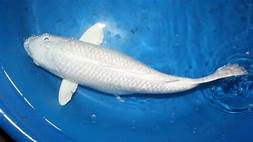white: (24, 21, 248, 106)
